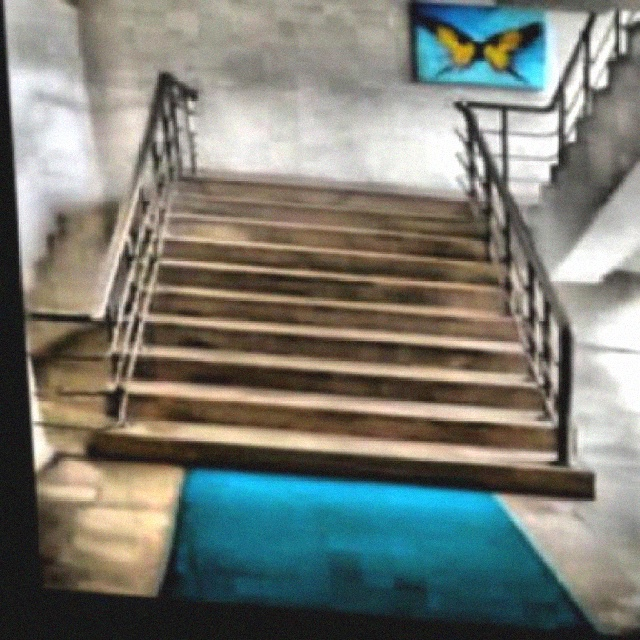stair: (58, 169, 574, 503)
